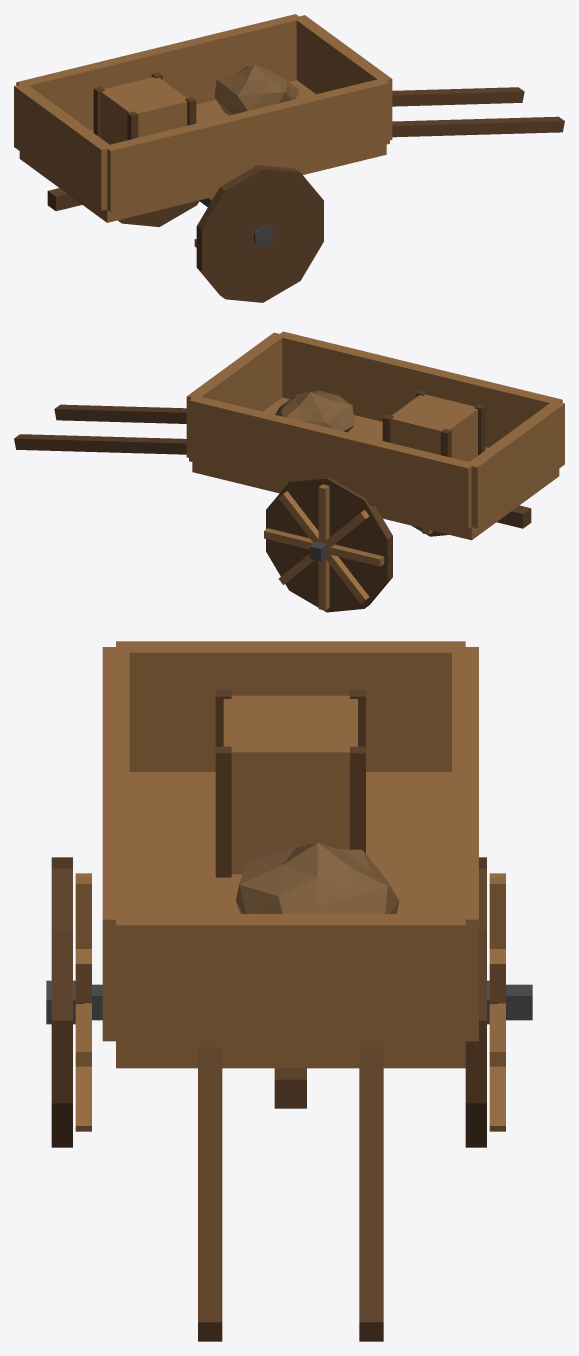
File: cart_1.glb
The picture shows the model from 3 angles, top to bottom: view 1: azimuth 30°, elevation 25°; view 2: azimuth 150°, elevation 25°; view 3: azimuth 270°, elevation 25°; orthographic projection. The views are drawn at different scales.
Visible parts, largest first — view 1: cart_1; view 2: cart_1; view 3: cart_1.
Boxes of the visible parts, bbox=[...] form: cart_1: bbox=[14, 14, 564, 302]; cart_1: bbox=[14, 331, 564, 612]; cart_1: bbox=[46, 641, 532, 1341].
Size of what is drawn, in the model's own units: 4.21 by 1.47 by 1.81.
